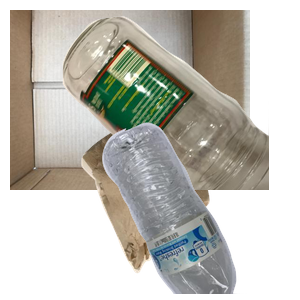cardboard: (10, 10, 250, 190)
glass: (60, 14, 300, 194)
plastic: (100, 120, 300, 300)
trash: (79, 123, 281, 300)
